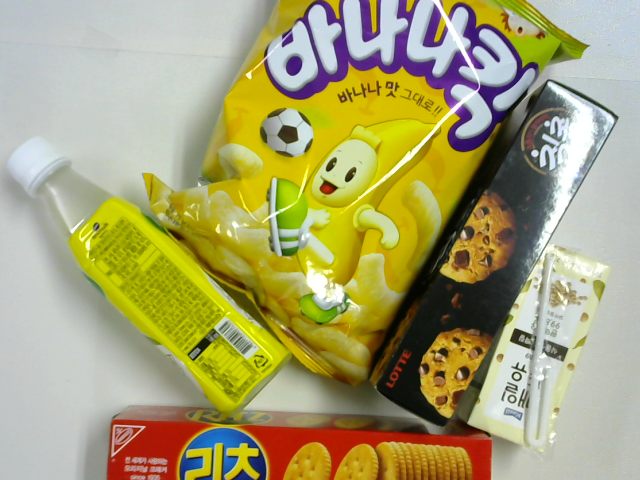99.89_Soymilk: (459, 239, 611, 453)
Banana_Kick: (142, 1, 591, 387)
Chicchok_Original_2400: (368, 80, 618, 426)
Ritz_Cracker: (108, 406, 492, 480)
Sunkist_Lemonaid_Pet: (7, 137, 290, 410)
